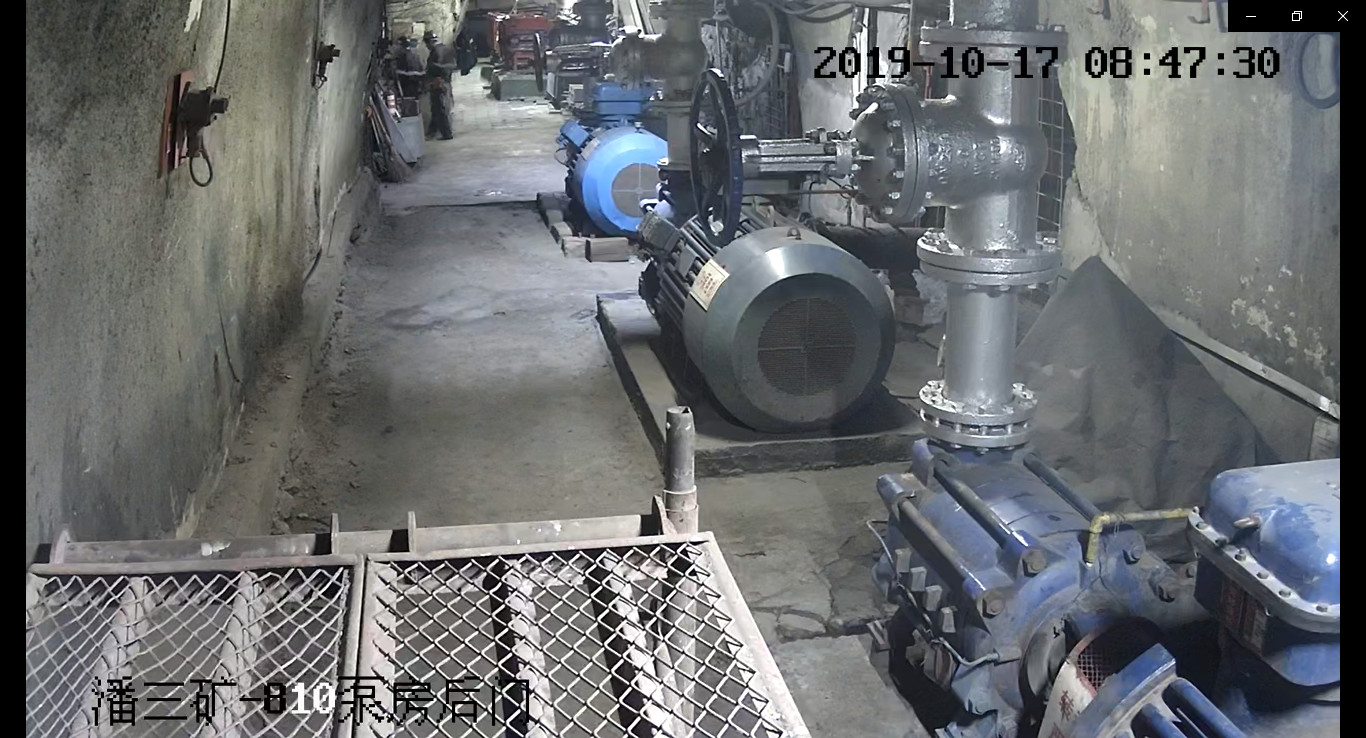helmet: (421, 29, 438, 39), (396, 35, 411, 44)
